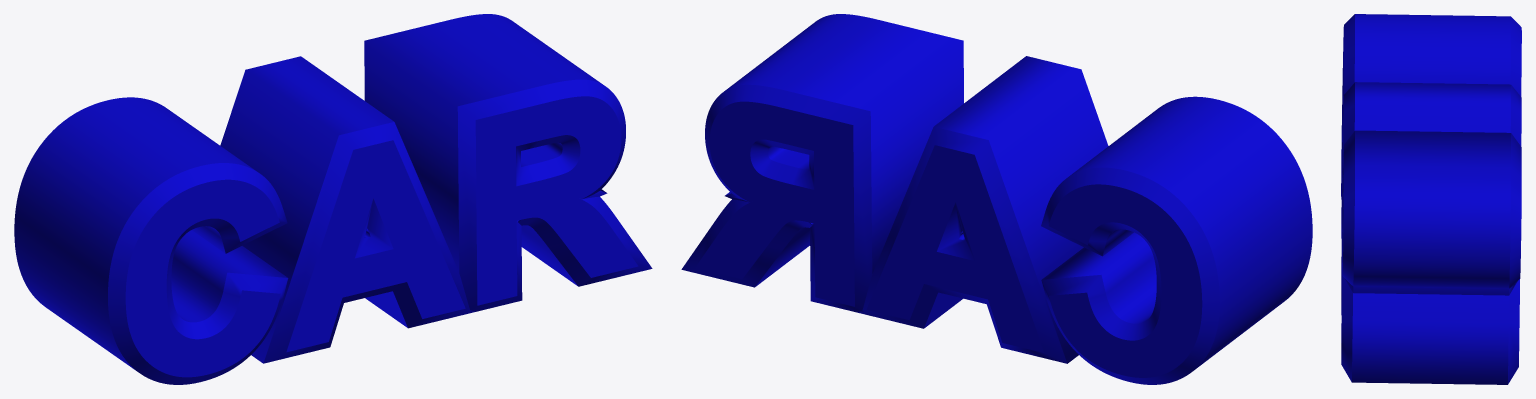
The model's file is car.fbx.
3 renders of one model, left to right at view 1: azimuth 30°, elevation 25°; view 2: azimuth 150°, elevation 25°; view 3: azimuth 270°, elevation 25°, orthographic. The views are drawn at different scales.
Parts seen in each view (by area): view 1: Text; view 2: Text; view 3: Text.
Part boxes in pixels (x1,y1,x2,y2): Text: [14, 14, 652, 384]; Text: [681, 14, 1312, 384]; Text: [1341, 14, 1521, 384].
Bounding box in the file's own units: 1.59 × 0.6068 × 0.5489.
